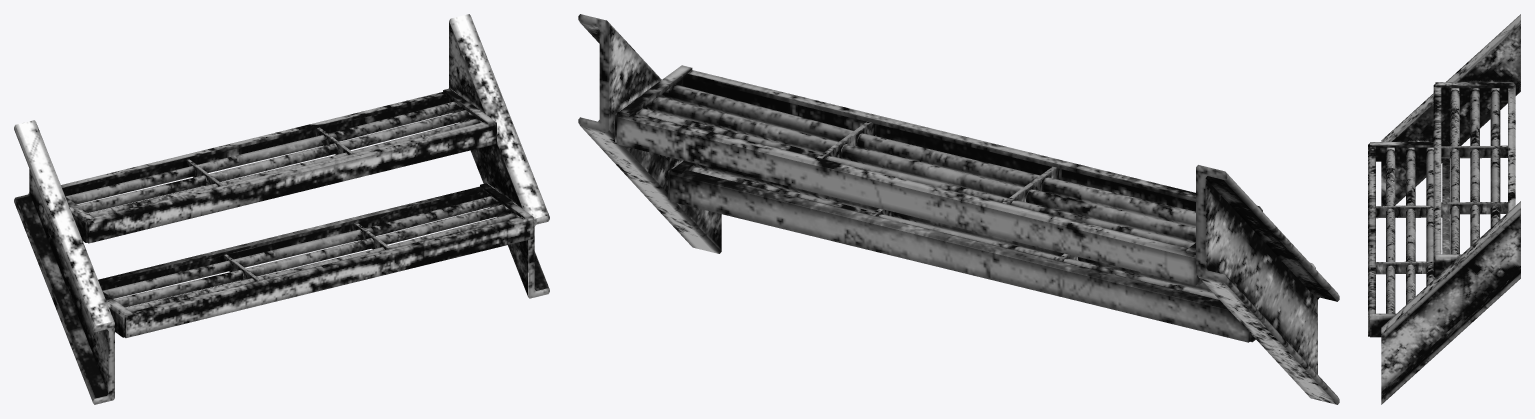
The model's file is sm_SteelCatwalks_01_06_stairs.fbx.
3 renders of one model, left to right at view 1: azimuth 30°, elevation 25°; view 2: azimuth 150°, elevation 25°; view 3: azimuth 270°, elevation 25°, orthographic. The views are drawn at different scales.
Visible parts, largest first — view 1: sm_SteelCatwalks_01_06_stairs_LOD0; view 2: sm_SteelCatwalks_01_06_stairs_LOD0; view 3: sm_SteelCatwalks_01_06_stairs_LOD0.
Boxes of the visible parts, x1,y1,x2,y2 form: sm_SteelCatwalks_01_06_stairs_LOD0: (14,14,549,404); sm_SteelCatwalks_01_06_stairs_LOD0: (578,14,1339,404); sm_SteelCatwalks_01_06_stairs_LOD0: (1368,14,1520,404).
Size of the model in its own units: 100 by 32.88 by 46.5.
